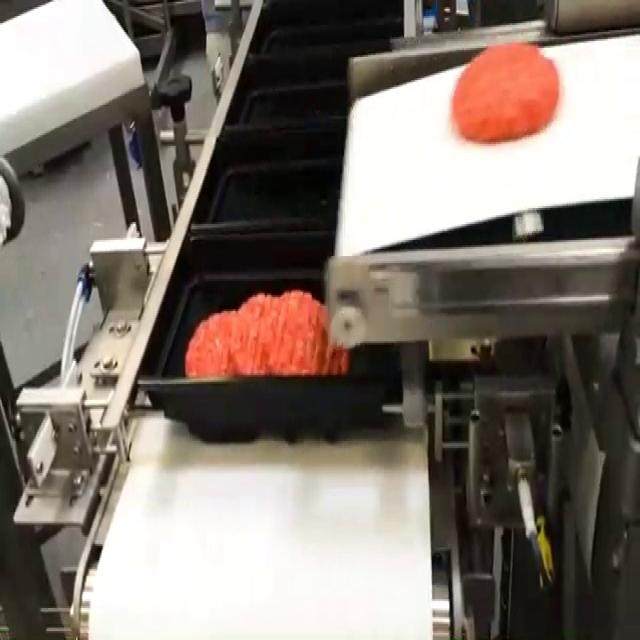hamburguer: (451, 43, 560, 142)
